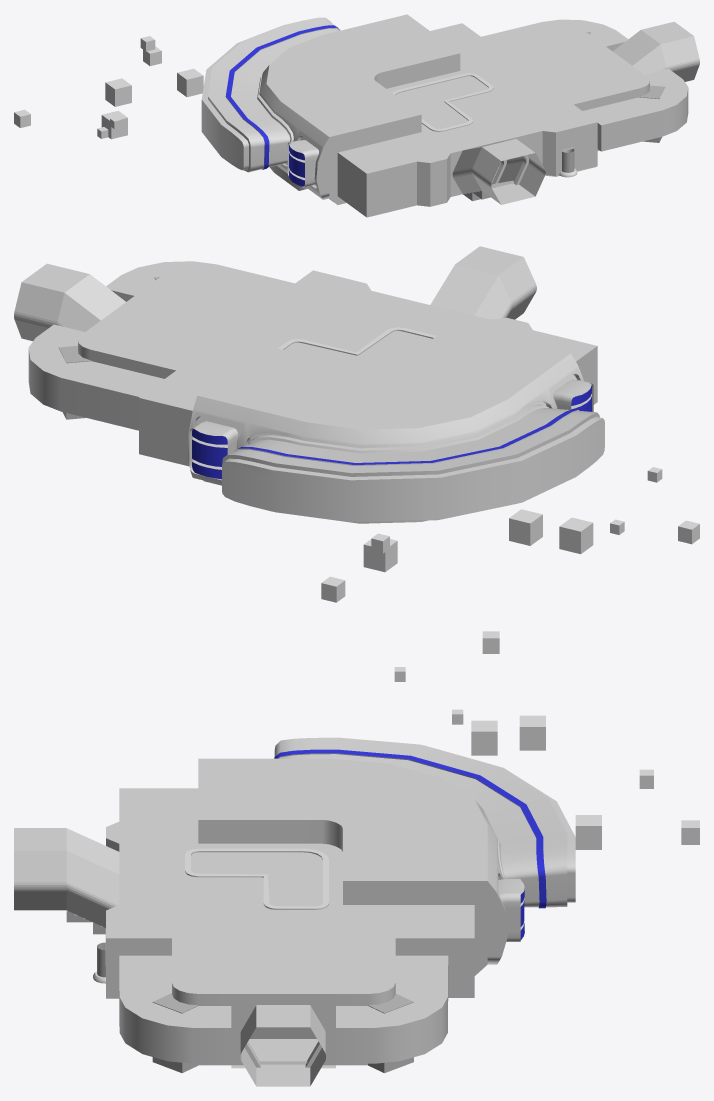
The model's file is FarmBlockOut.fbx.
The picture shows the model from 3 angles, top to bottom: view 1: azimuth 30°, elevation 25°; view 2: azimuth 150°, elevation 25°; view 3: azimuth 270°, elevation 25°; orthographic projection. The views are drawn at different scales.
Parts seen in each view (by area): view 1: Room, WindowFishTank, Walls, BedRoomHallway_Walls, TankWall, Bookcase.002, FishTank_Frame, Cube, Cube.001, Cube.002, Frame; view 2: Room, WindowFishTank, TankWall, Walls, BedRoomHallway_Walls, Bookcase.001, Bookcase.002, Cube.002, Cube, Cube.001, FishTank_Frame; view 3: Room, WindowFishTank, Walls, BedRoomHallway_Walls, TankWall, FishTank_Frame, Floor, Bookcase.001, Cube.002, Cube, Cube.001, BuyStation (+2 smaller).
Boxes of the visible parts, box(x1,y1,x2,y2) form: Room: box(266, 14, 688, 217); WindowFishTank: box(201, 17, 340, 172); Walls: box(452, 139, 545, 204); BedRoomHallway_Walls: box(613, 21, 699, 81); TankWall: box(259, 65, 333, 201); Bookcase.002: box(287, 135, 319, 188); FishTank_Frame: box(392, 73, 493, 131); Cube: box(105, 78, 131, 106); Cube.001: box(177, 68, 203, 96); Cube.002: box(101, 110, 127, 139); Frame: box(473, 147, 528, 192); Room: box(28, 261, 597, 480); WindowFishTank: box(222, 401, 604, 522); TankWall: box(187, 353, 583, 485); Walls: box(430, 246, 536, 319); BedRoomHallway_Walls: box(14, 263, 125, 340); Bookcase.001: box(189, 416, 240, 480); Bookcase.002: box(552, 373, 593, 411); Cube.002: box(559, 517, 593, 554); Cube: box(509, 509, 542, 545); Cube.001: box(363, 539, 397, 572); FishTank_Frame: box(278, 327, 436, 355); Room: box(106, 758, 487, 1068); WindowFishTank: box(274, 737, 575, 908); Walls: box(14, 828, 119, 927); BedRoomHallway_Walls: box(240, 1005, 326, 1086); TankWall: box(475, 800, 507, 964); FishTank_Frame: box(185, 848, 328, 909); Floor: box(248, 1039, 318, 1061); Bookcase.001: box(498, 873, 524, 941); Cube.002: box(471, 720, 497, 755); Cube: box(519, 715, 545, 750); Cube.001: box(575, 815, 601, 849); BuyStation: box(152, 993, 198, 1072).
Bounding box in the file's own units: 7058 × 804 × 5213.
